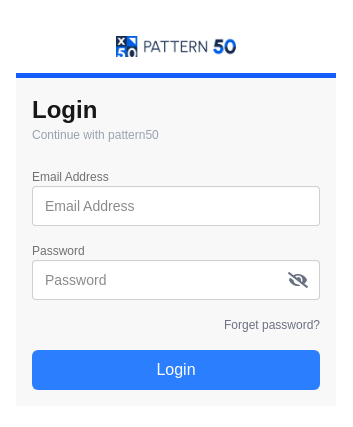
Test: Login Page Component › shows validation errors when fields are left empty on submit
Click the button "Login" at (176, 370), box [32,350,320,390]
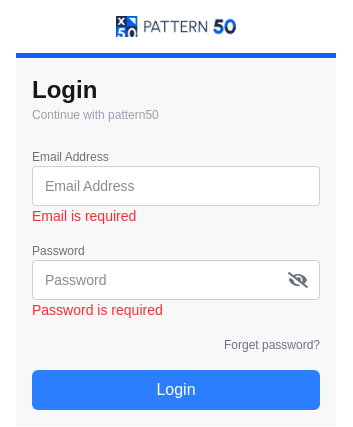
Check: the text "Email is required" is shown, box [32,208,136,224]
Check: the text "Password is required" is shown, box [32,302,163,318]
